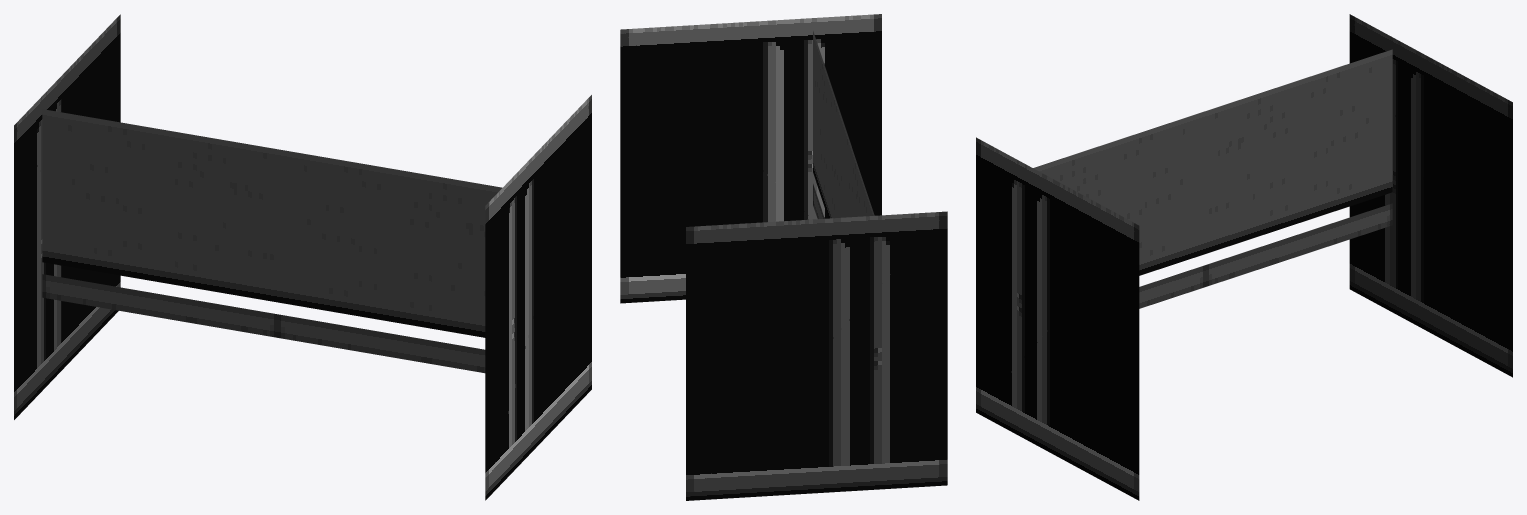
File: metal_table_frame.glb
3 renders of one model, left to right at view 1: azimuth 30°, elevation 25°; view 2: azimuth 150°, elevation 25°; view 3: azimuth 270°, elevation 25°, orthographic. The views are drawn at different scales.
Parts seen in each view (by area): view 1: Object; view 2: Object; view 3: Object.
Part boxes in pixels (x1,y1,x2,y2): Object: [14, 14, 591, 500]; Object: [620, 14, 947, 500]; Object: [976, 14, 1512, 500].
Bounding box in the file's own units: 1.74 × 1.06 × 1.87.
Materials: 3 (3 with a texture image).
